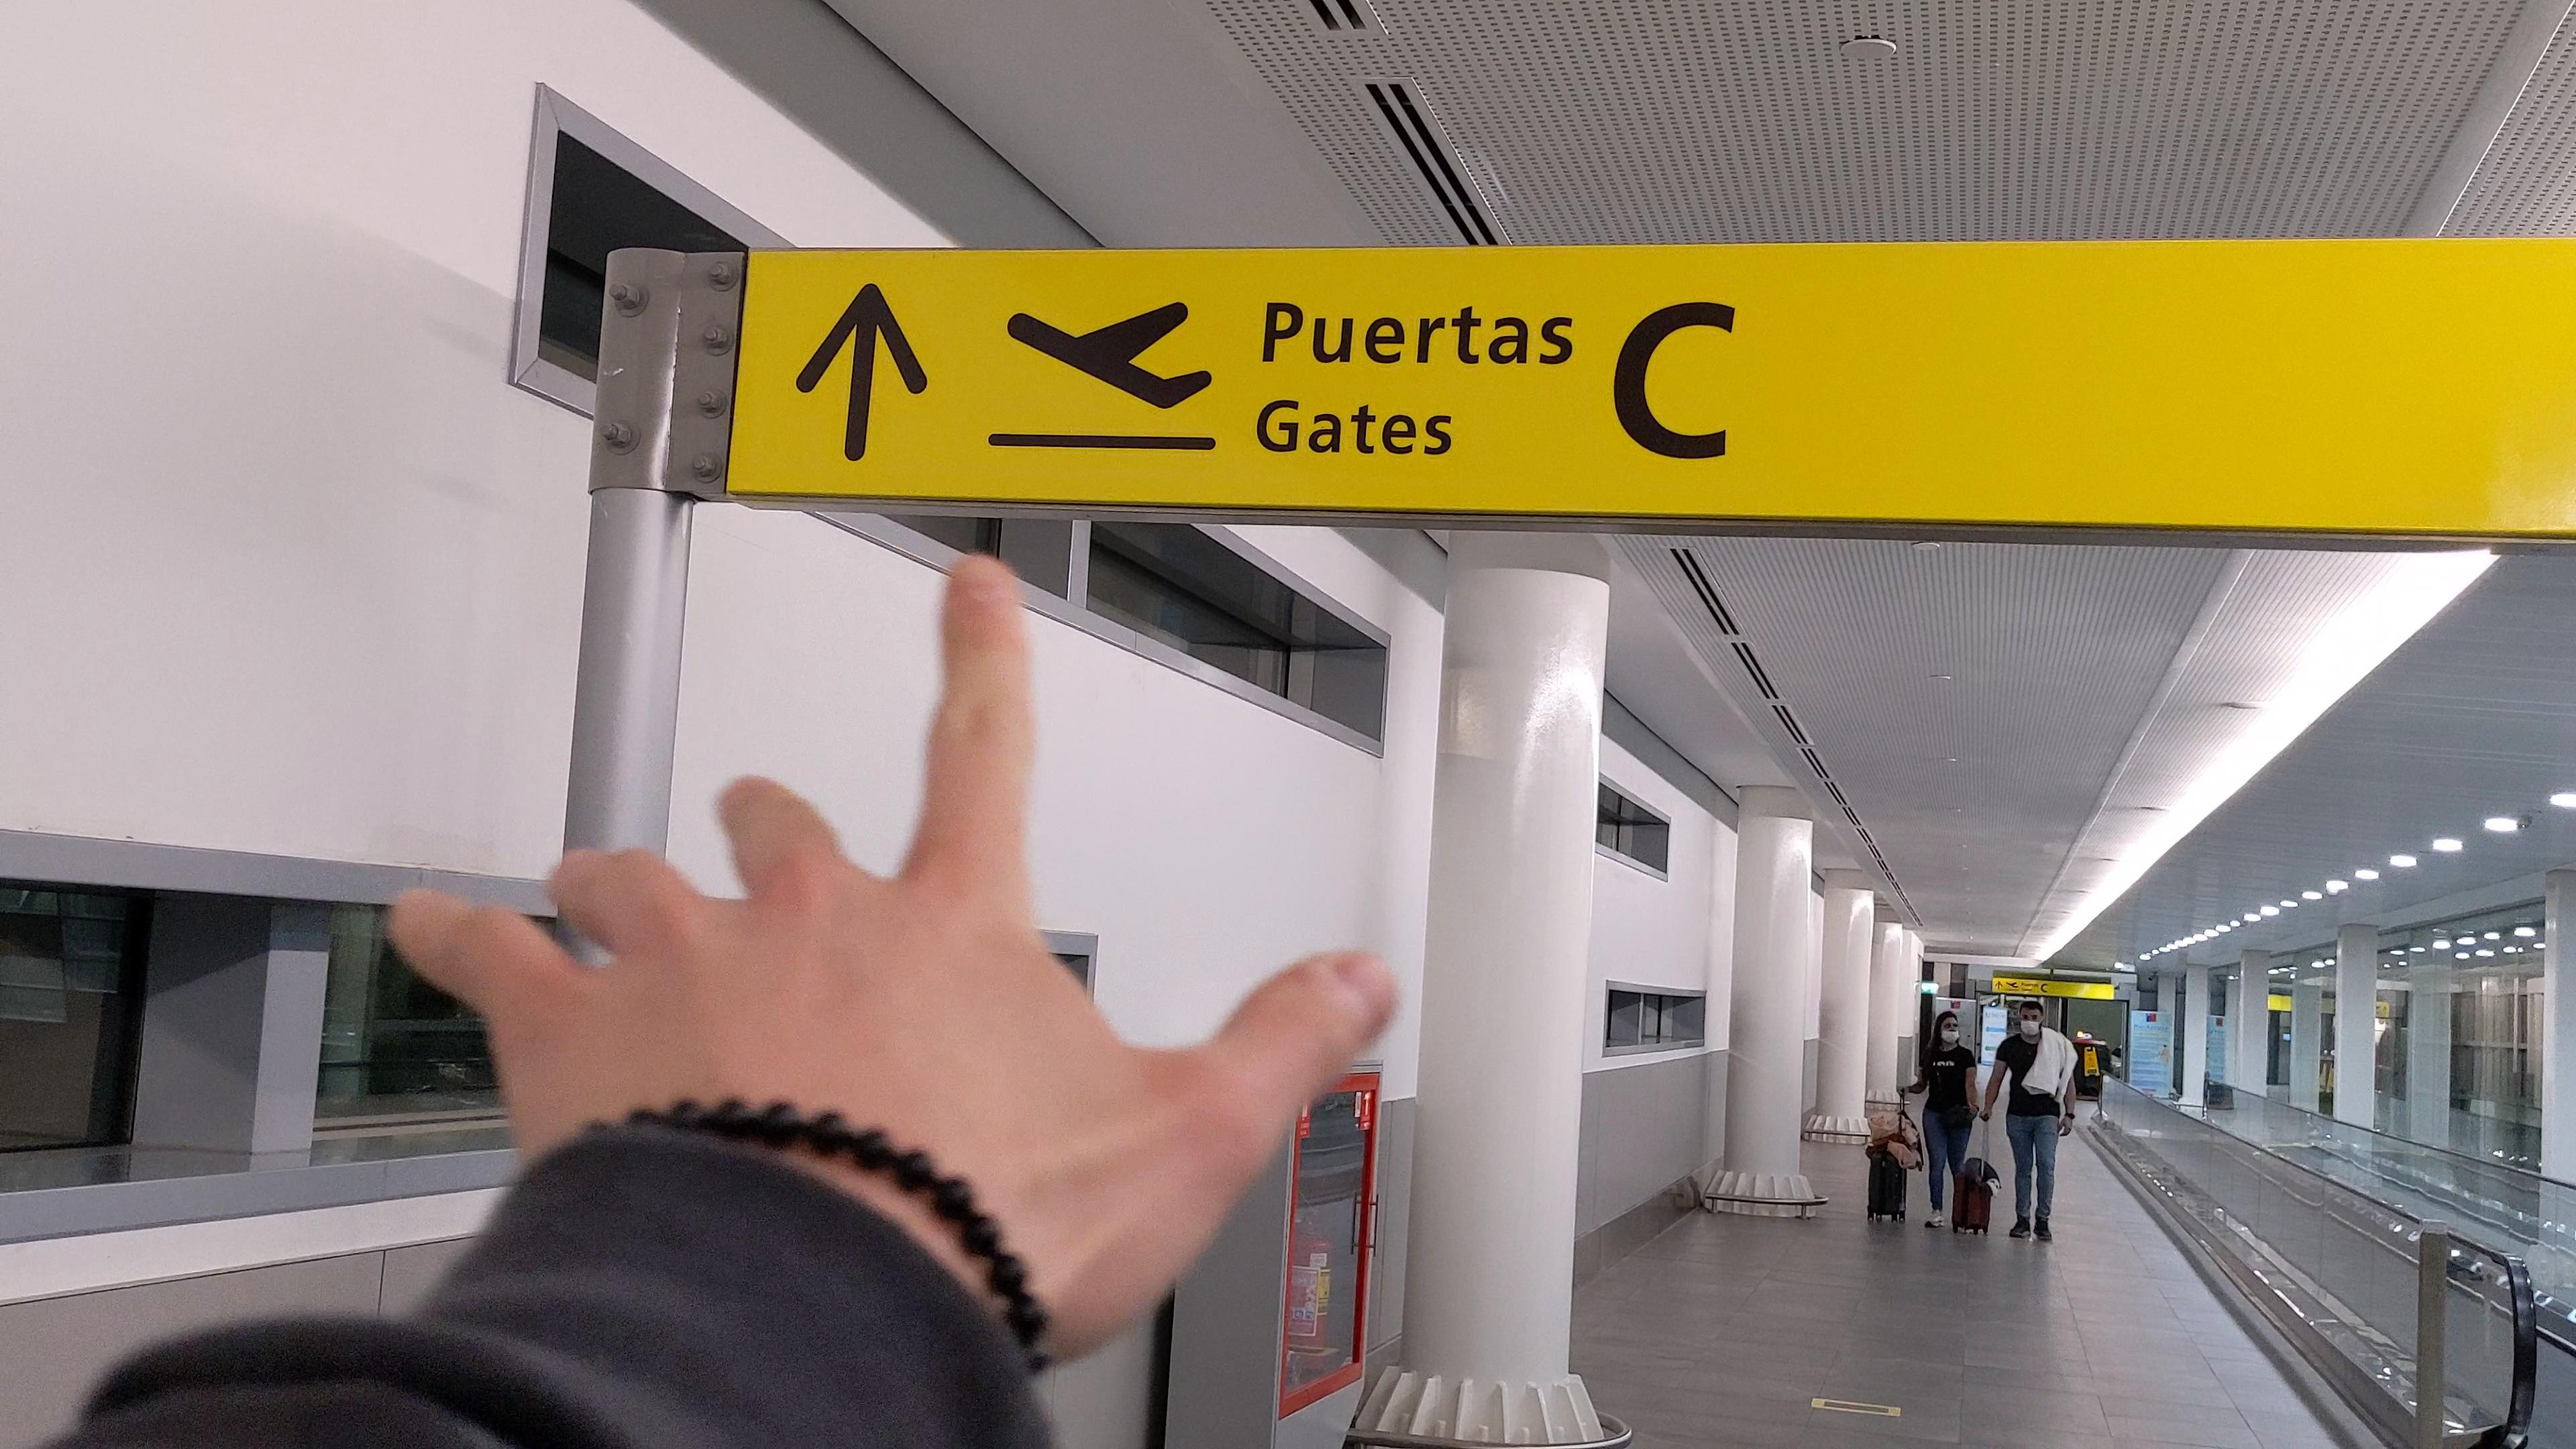airplane symbol: (1001, 295, 1217, 414)
thin up arrow: (794, 280, 931, 467)
